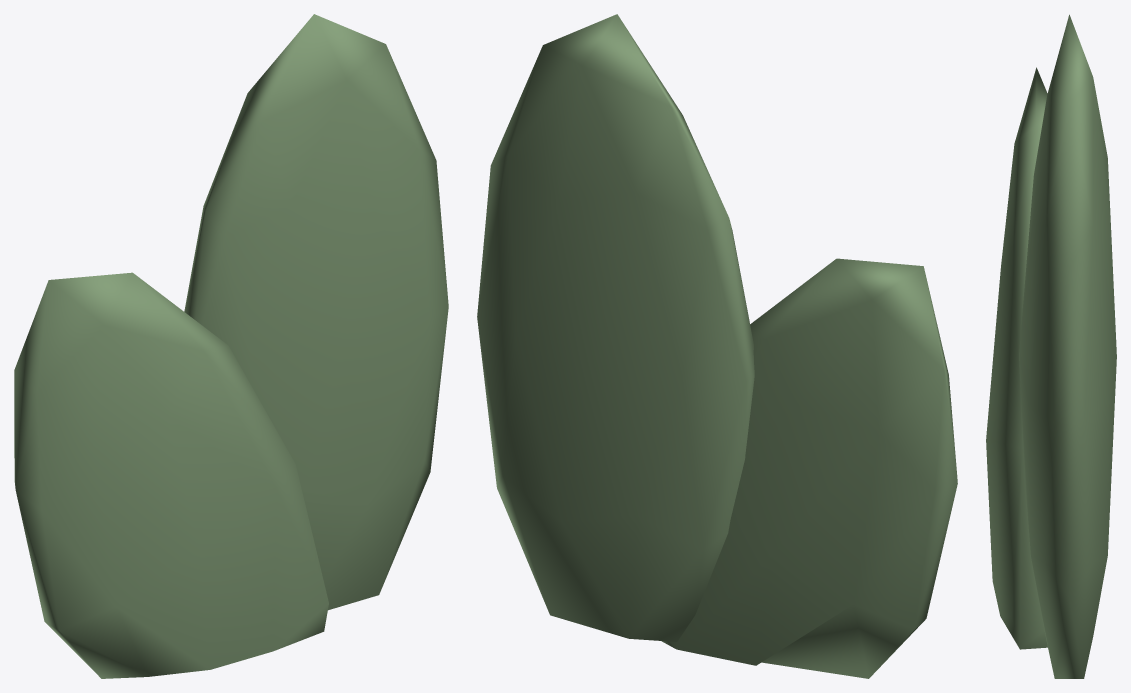
The model's file is grass.gltf.
The picture shows the model from 3 angles, left to right: view 1: azimuth 30°, elevation 25°; view 2: azimuth 150°, elevation 25°; view 3: azimuth 270°, elevation 25°; orthographic projection. The views are drawn at different scales.
Visible parts, largest first — view 1: grass; view 2: grass; view 3: grass.
Part boxes in pixels (<box>): grass: <box>14,14,448,678</box>; grass: <box>477,14,957,678</box>; grass: <box>986,14,1116,678</box>.
Bounding box in the file's own units: 0.457 × 0.5931 × 0.109.
